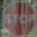Stop: (1, 7, 36, 32)
